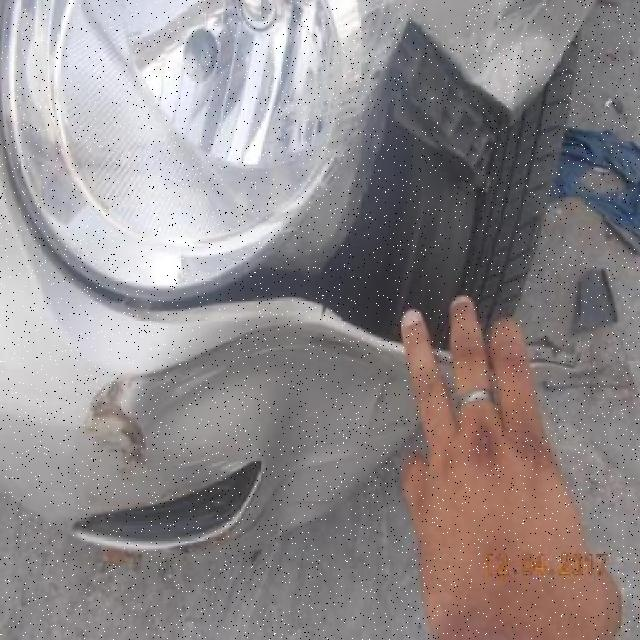damage: (162, 18, 515, 347), (141, 322, 417, 544), (81, 374, 157, 481)
